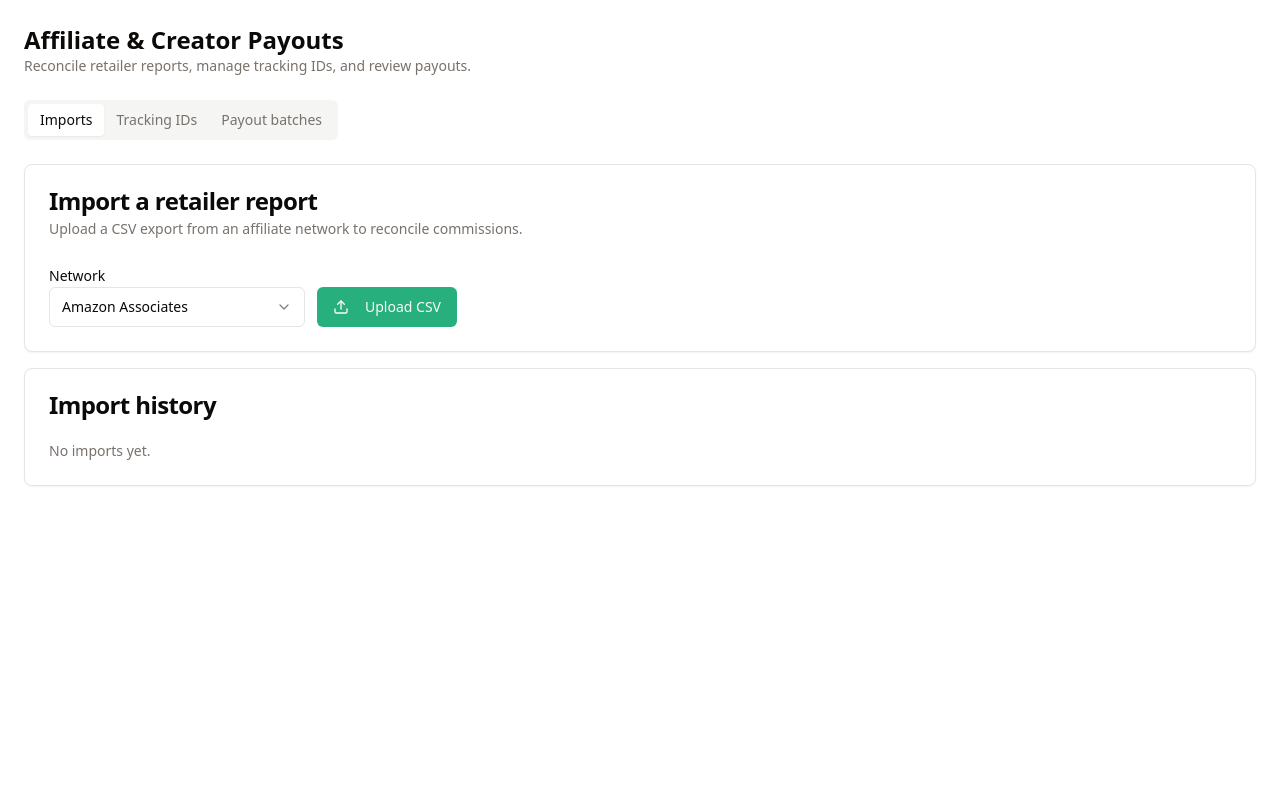
Test: AffiliateAdmin › Tracking IDs tab › shows an empty state with 0/0 counts when the pool is empty
Click the tab "Tracking IDs" at (157, 120), box [104,104,209,136]
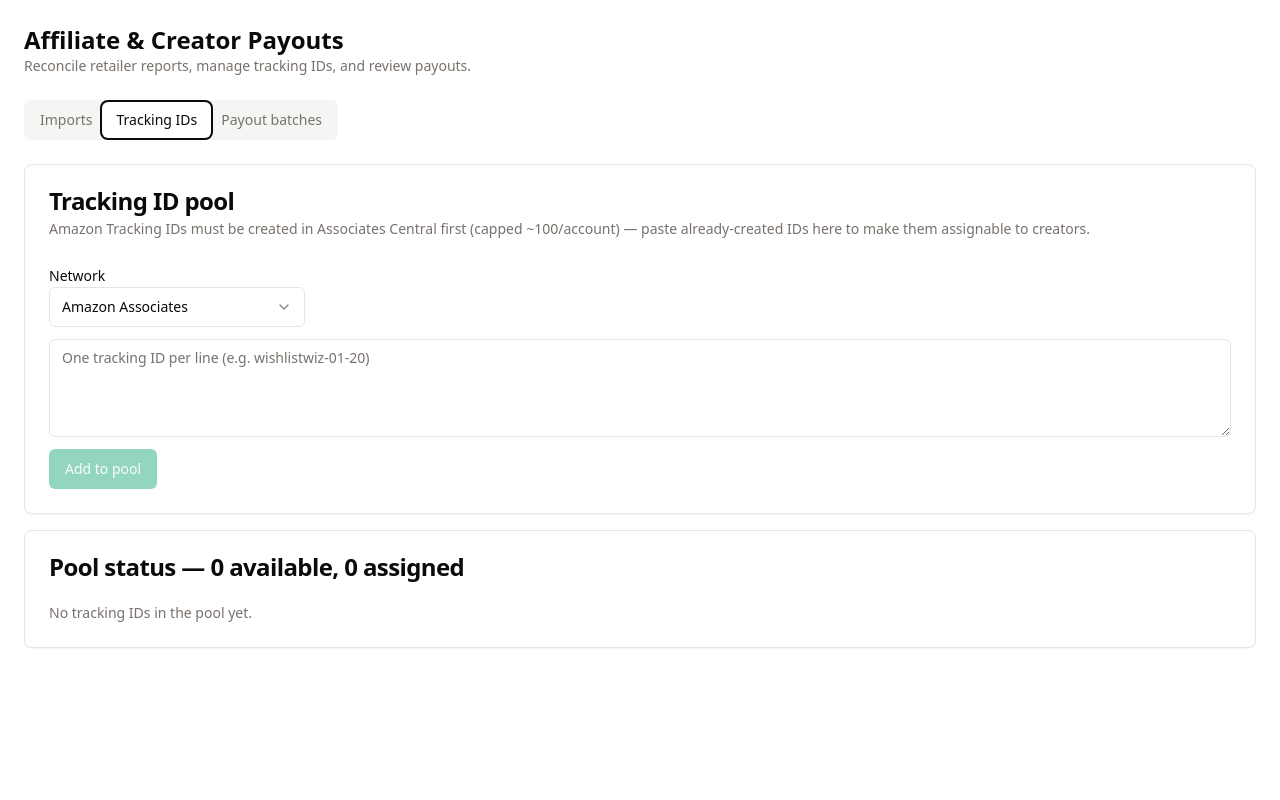
Check: the text "Pool status — 0 available, 0 assigned" is shown, box [49,550,464,583]
Check: the text "No tracking IDs in the pool yet." is shown, box [49,603,252,622]
